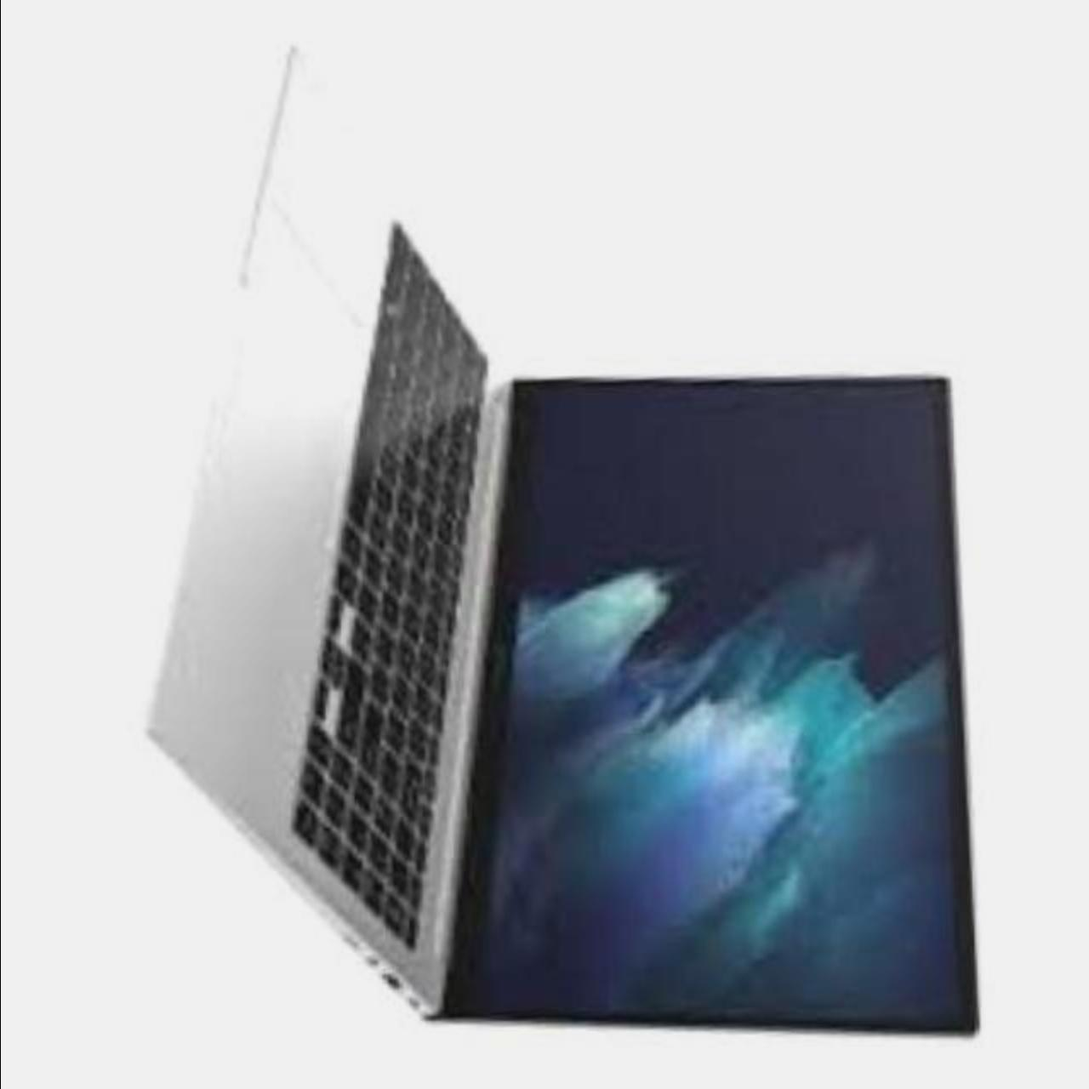laptop: (99, 0, 1014, 1089)
